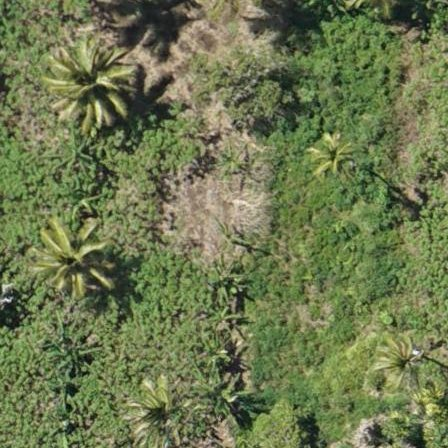palm_tree: (48, 37, 124, 118), (31, 222, 109, 299), (124, 382, 197, 445), (304, 128, 357, 185), (374, 336, 427, 393)
